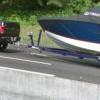Boat: (30, 6, 100, 66)
